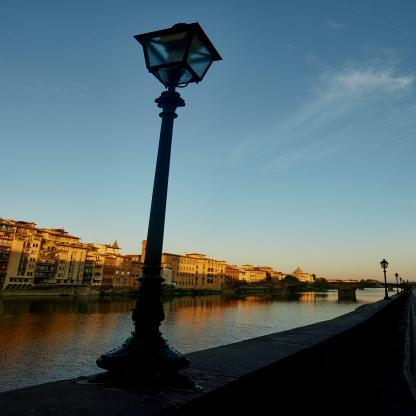light_pole: (95, 22, 223, 388), (380, 259, 391, 300), (394, 272, 400, 294), (399, 278, 403, 293)
